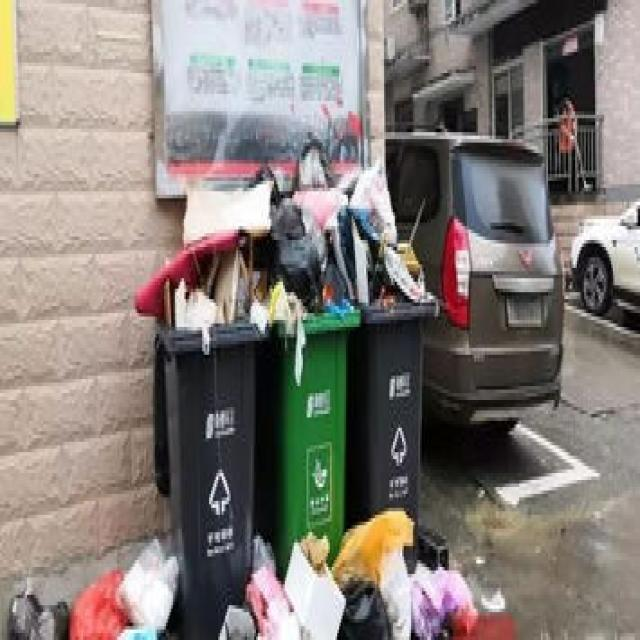garbage: (213, 508, 510, 636), (7, 532, 177, 637)
overflow: (136, 181, 270, 636), (272, 184, 359, 574), (362, 170, 437, 536)
